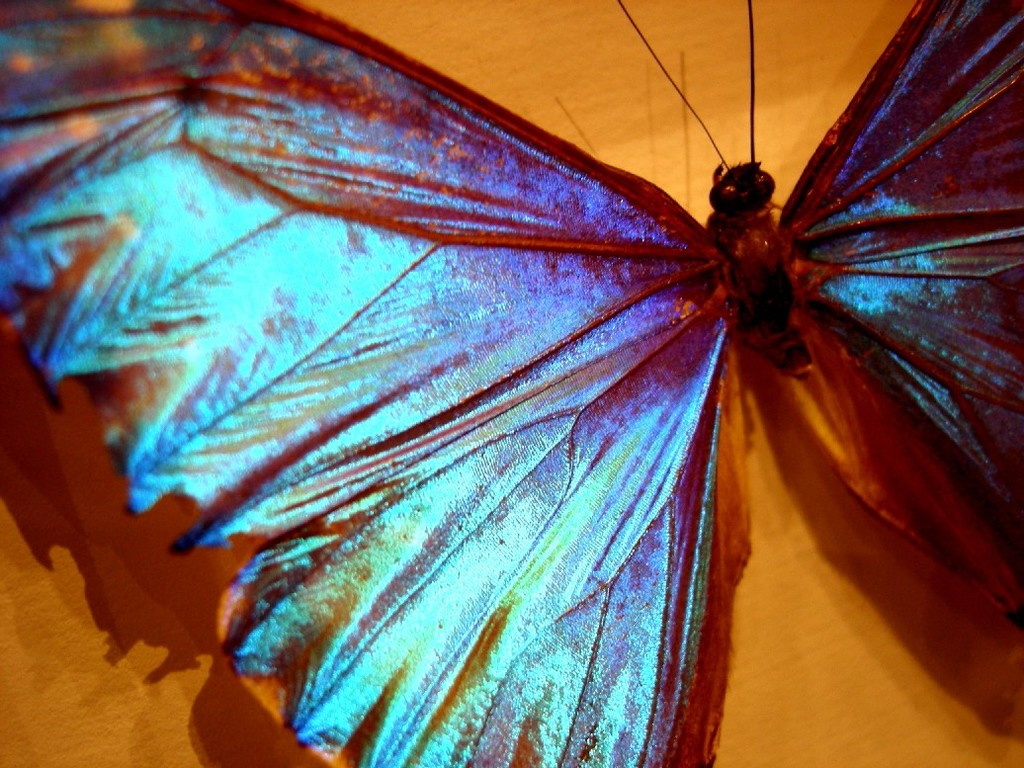Butterfly: (7, 8, 1024, 767)
